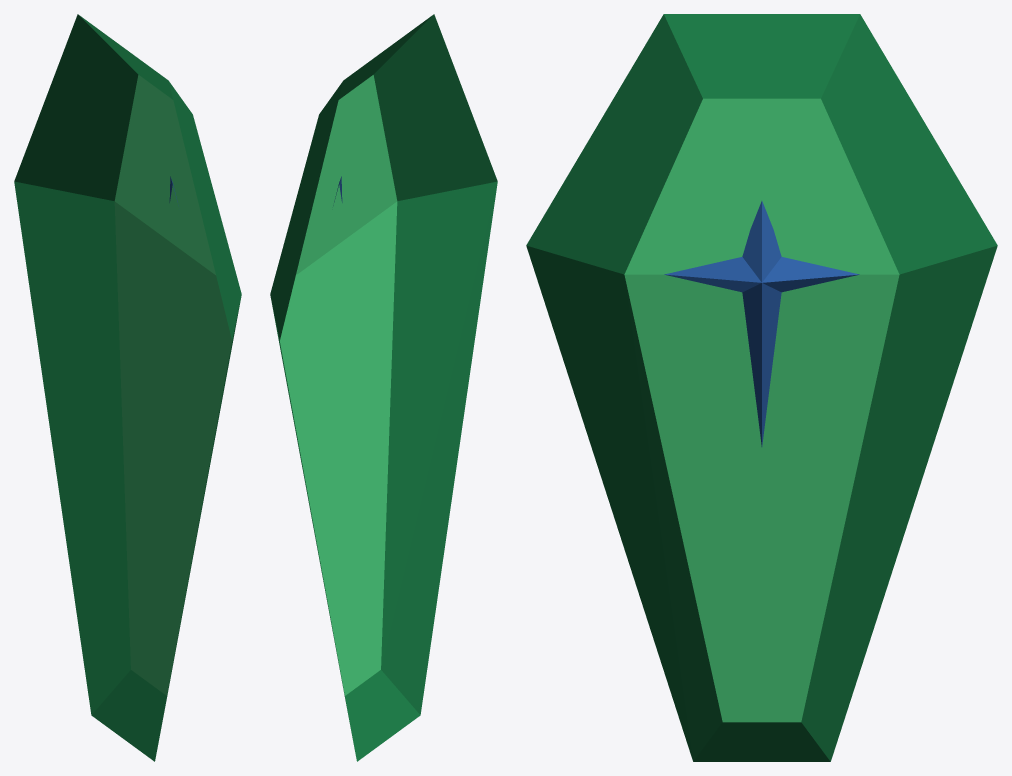
The model's file is Shield.FBX.
The picture shows the model from 3 angles, left to right: view 1: azimuth 30°, elevation 25°; view 2: azimuth 150°, elevation 25°; view 3: azimuth 270°, elevation 25°; orthographic projection. The views are drawn at different scales.
Visible parts, largest first — view 1: VIFS001, VIFS002; view 2: VIFS001, VIFS002; view 3: VIFS001, VIFS002, VIFS003.
Part boxes in pixels (x1,y1,x2,y2): VIFS001: (14,14,241,761); VIFS002: (114,75,231,695); VIFS001: (270,14,497,761); VIFS002: (280,75,397,695); VIFS001: (526,14,997,761); VIFS002: (624,98,899,722); VIFS003: (664,201,859,446).
Bounding box in the file's own units: 0.18 × 1.68 × 0.96.
